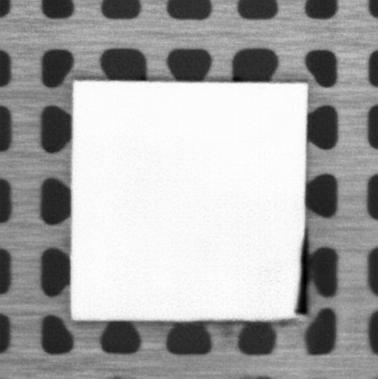DIE_BROKEN: (293, 230, 307, 315)
